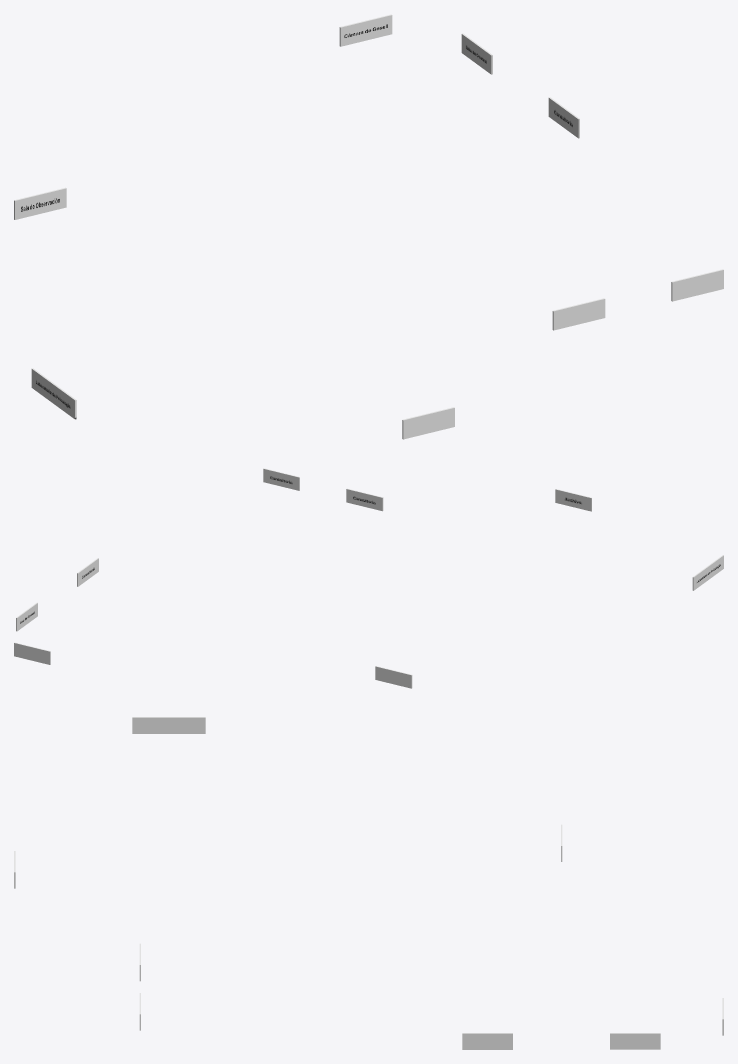
Rendered from letreros.fbx.
The picture shows the model from 3 angles, top to bottom: view 1: azimuth 30°, elevation 25°; view 2: azimuth 150°, elevation 25°; view 3: azimuth 270°, elevation 25°; orthographic projection. The views are drawn at different scales.
Parts seen in each view (by area): view 1: Cube.011, Cube.022, Cube.012, Cube.009, Cube.023, Cube, Cube.021, Cube.020; view 2: Cube.011, Cube.023, Cube.009, Cube.012, Cube.022, Cube; view 3: Cube, Cube.021, Cube.020.
Boxes of the visible parts, x1,y1,x2,y2 form: Cube.011: (552,298,605,330); Cube.022: (339,14,392,46); Cube.012: (671,269,723,301); Cube.009: (402,407,454,439); Cube.023: (14,187,66,219); Cube: (31,368,76,419); Cube.021: (461,33,492,74); Cube.020: (548,97,579,138); Cube.011: (346,488,383,511); Cube.023: (375,666,412,688); Cube.009: (555,489,591,511); Cube.012: (263,468,299,490); Cube.022: (14,642,50,664); Cube: (692,555,723,590); Cube: (132,717,205,733); Cube.021: (610,1033,660,1049); Cube.020: (462,1033,512,1049).
Size of the model in its own units: 630 by 44.61 by 653.
6 materials, 6 textured.
